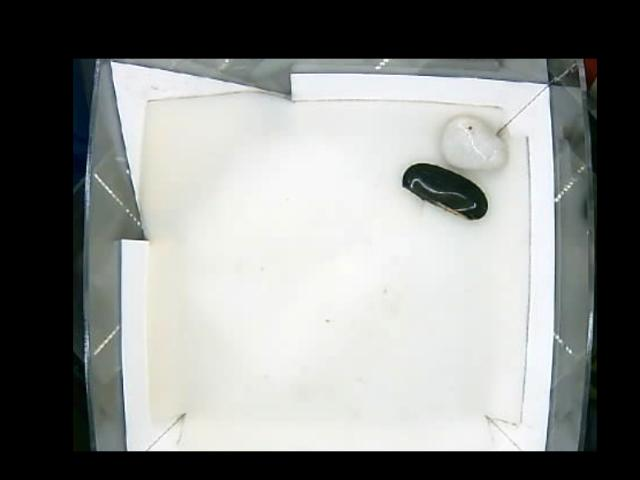Pebble: (398, 163, 485, 222), (441, 116, 505, 171)
